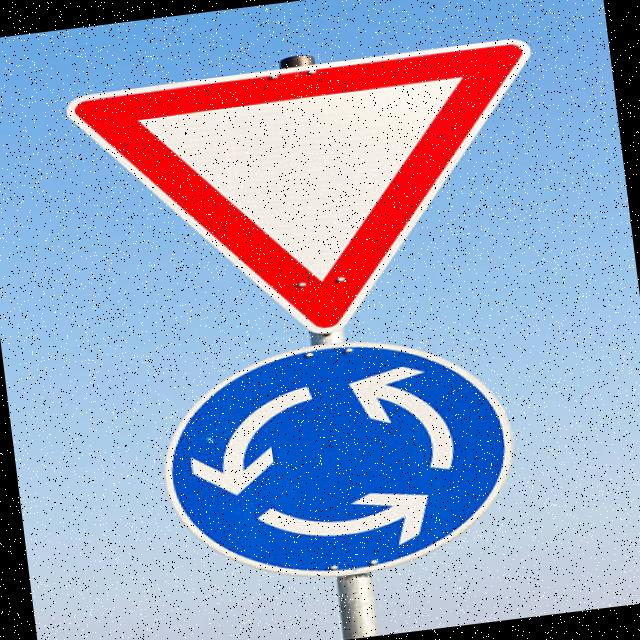give_way: (44, 30, 578, 365)
